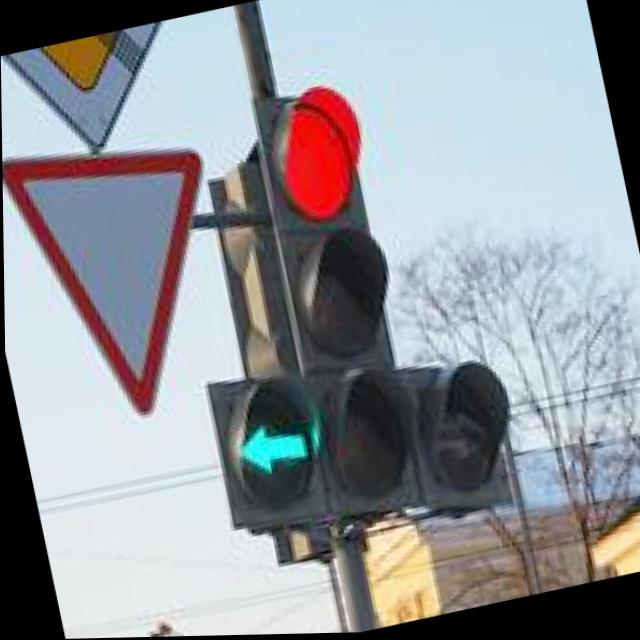red_light: (234, 77, 407, 236)
